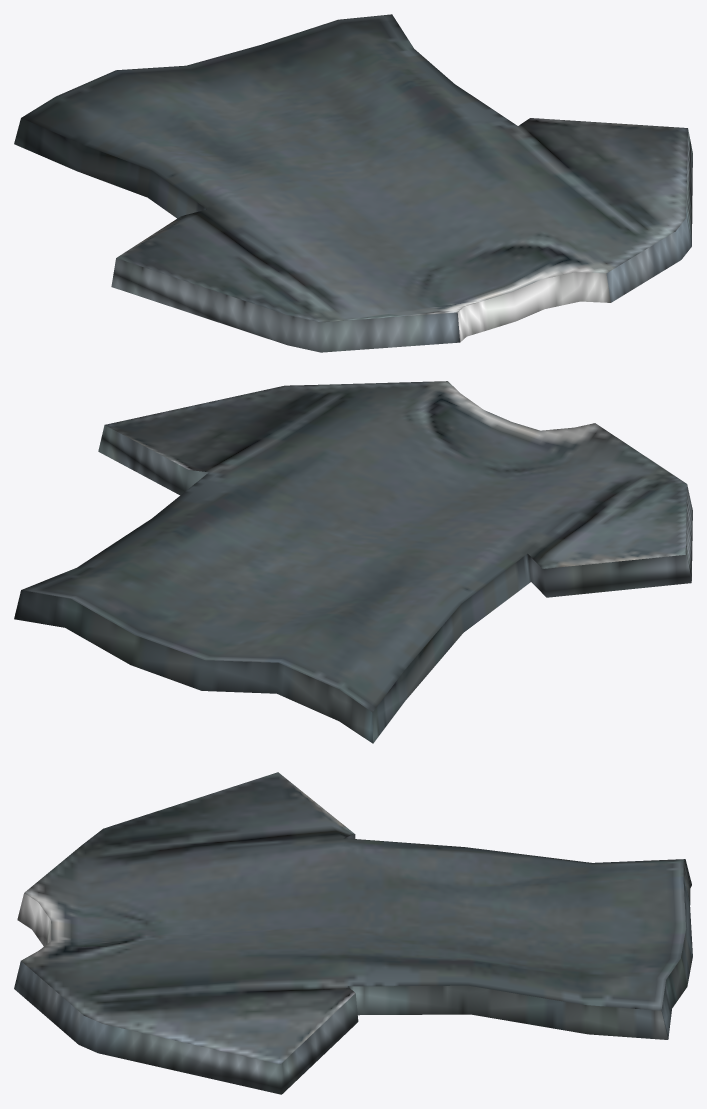
The model's file is Pickup_TshirtA.glb.
The picture shows the model from 3 angles, top to bottom: view 1: azimuth 30°, elevation 25°; view 2: azimuth 150°, elevation 25°; view 3: azimuth 270°, elevation 25°; orthographic projection.
Parts seen in each view (by area): view 1: pk_tshirt_a; view 2: pk_tshirt_a; view 3: pk_tshirt_a.
Part boxes in pixels (x1,y1,x2,y2): pk_tshirt_a: (14,14,692,352); pk_tshirt_a: (14,381,692,743); pk_tshirt_a: (14,772,692,1094).
Size of the model in its own units: 0.8359 by 0.09 by 0.8354.
Materials: 1 (1 with a texture image).
